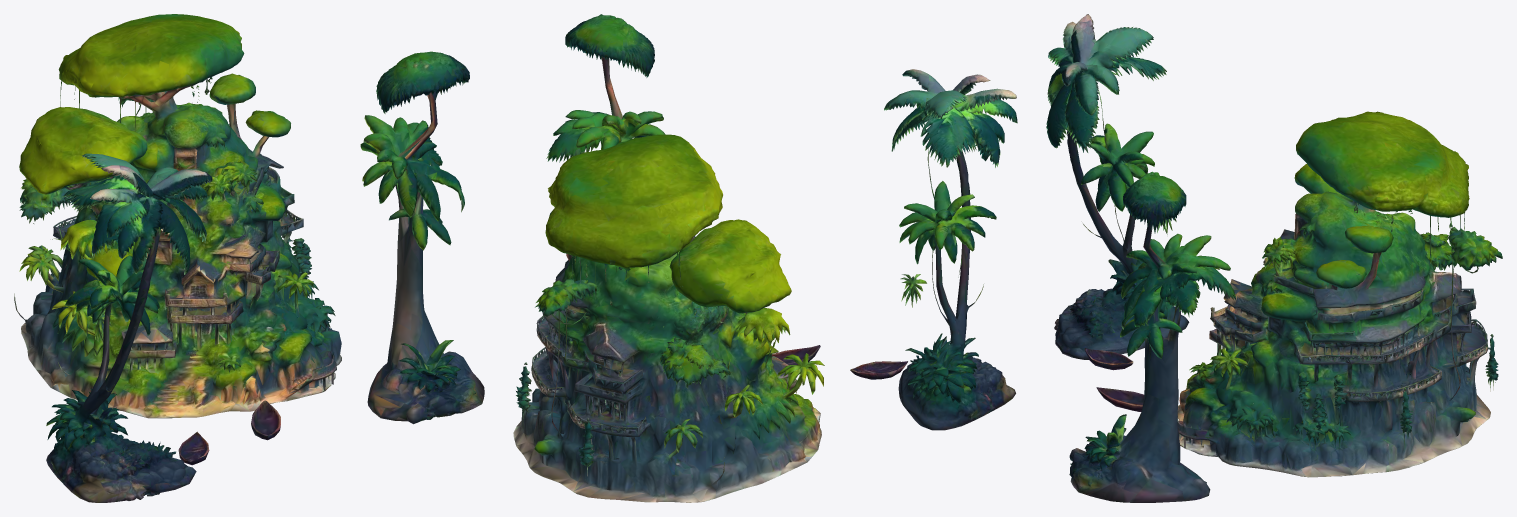
Rendered from Treehouse_Island.glb.
3 views of the same model, side by side, from view 1: azimuth 30°, elevation 25°; view 2: azimuth 150°, elevation 25°; view 3: azimuth 270°, elevation 25° (orthographic). The views are drawn at different scales.
Parts seen in each view (by area): view 1: Treehouse_Island; view 2: Treehouse_Island; view 3: Treehouse_Island.
Part boxes in pixels (x1,y1,x2,y2): Treehouse_Island: [14, 14, 484, 502]; Treehouse_Island: [513, 14, 1017, 502]; Treehouse_Island: [1046, 14, 1502, 502].
Bounding box in the file's own units: 1.9 × 1.4 × 1.89.
1 material, 1 textured.
